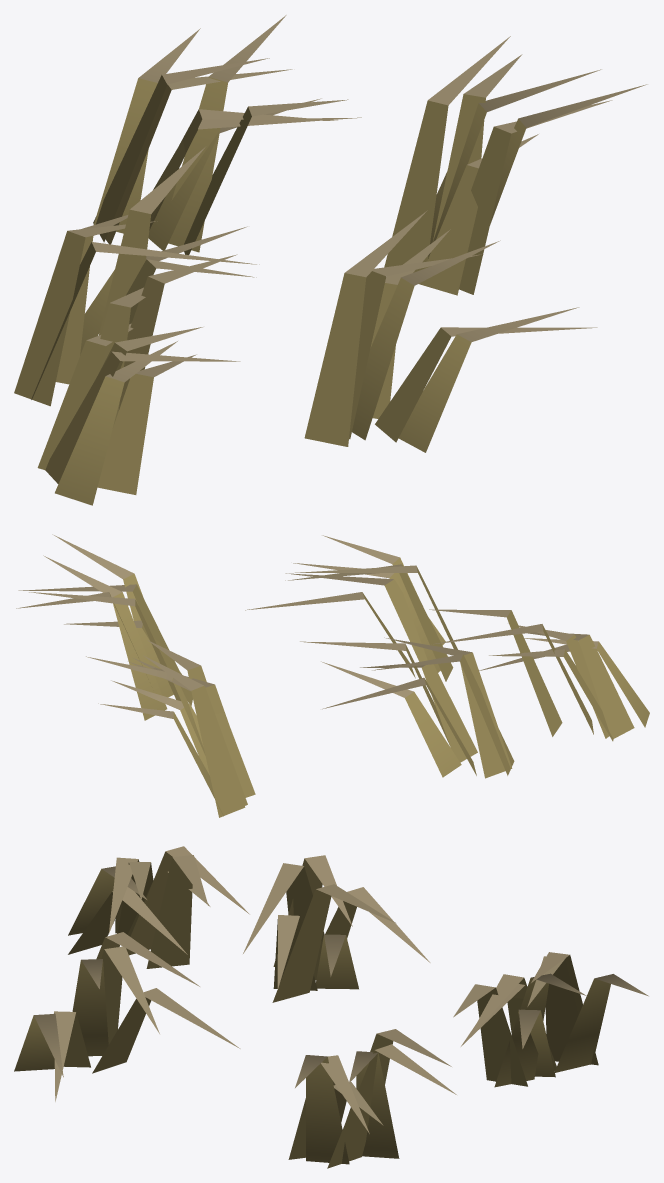
The model's file is DeadGrass.fbx.
3 renders of one model, top to bottom at view 1: azimuth 30°, elevation 25°; view 2: azimuth 150°, elevation 25°; view 3: azimuth 270°, elevation 25°, orthographic. The views are drawn at different scales.
Visible parts, largest first — view 1: DeadGrass; view 2: DeadGrass; view 3: DeadGrass.
Boxes of the visible parts, x1,y1,x2,y2 form: DeadGrass: [14, 15, 647, 505]; DeadGrass: [16, 534, 649, 817]; DeadGrass: [14, 846, 648, 1168].
Size of the model in its own units: 0.8387 by 0.1908 by 0.7175.
